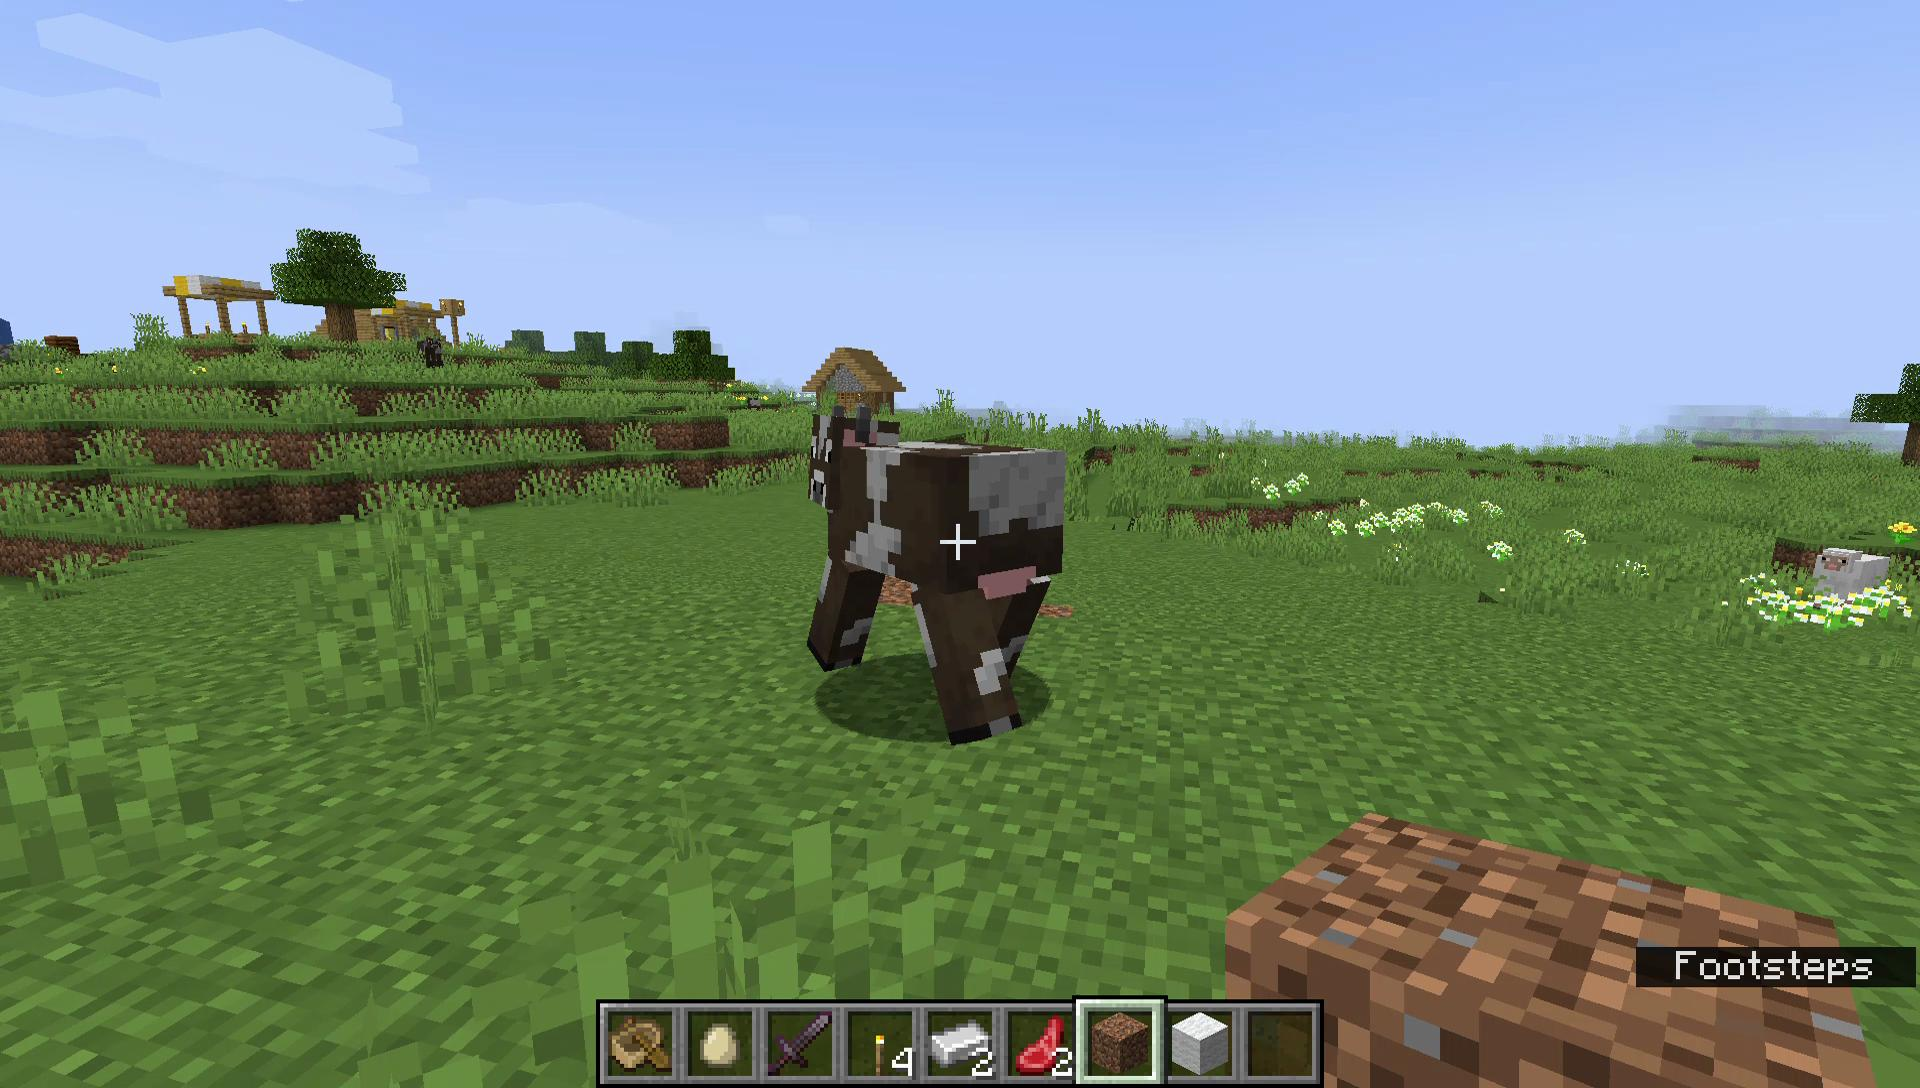cow: (800, 408, 1068, 750)
